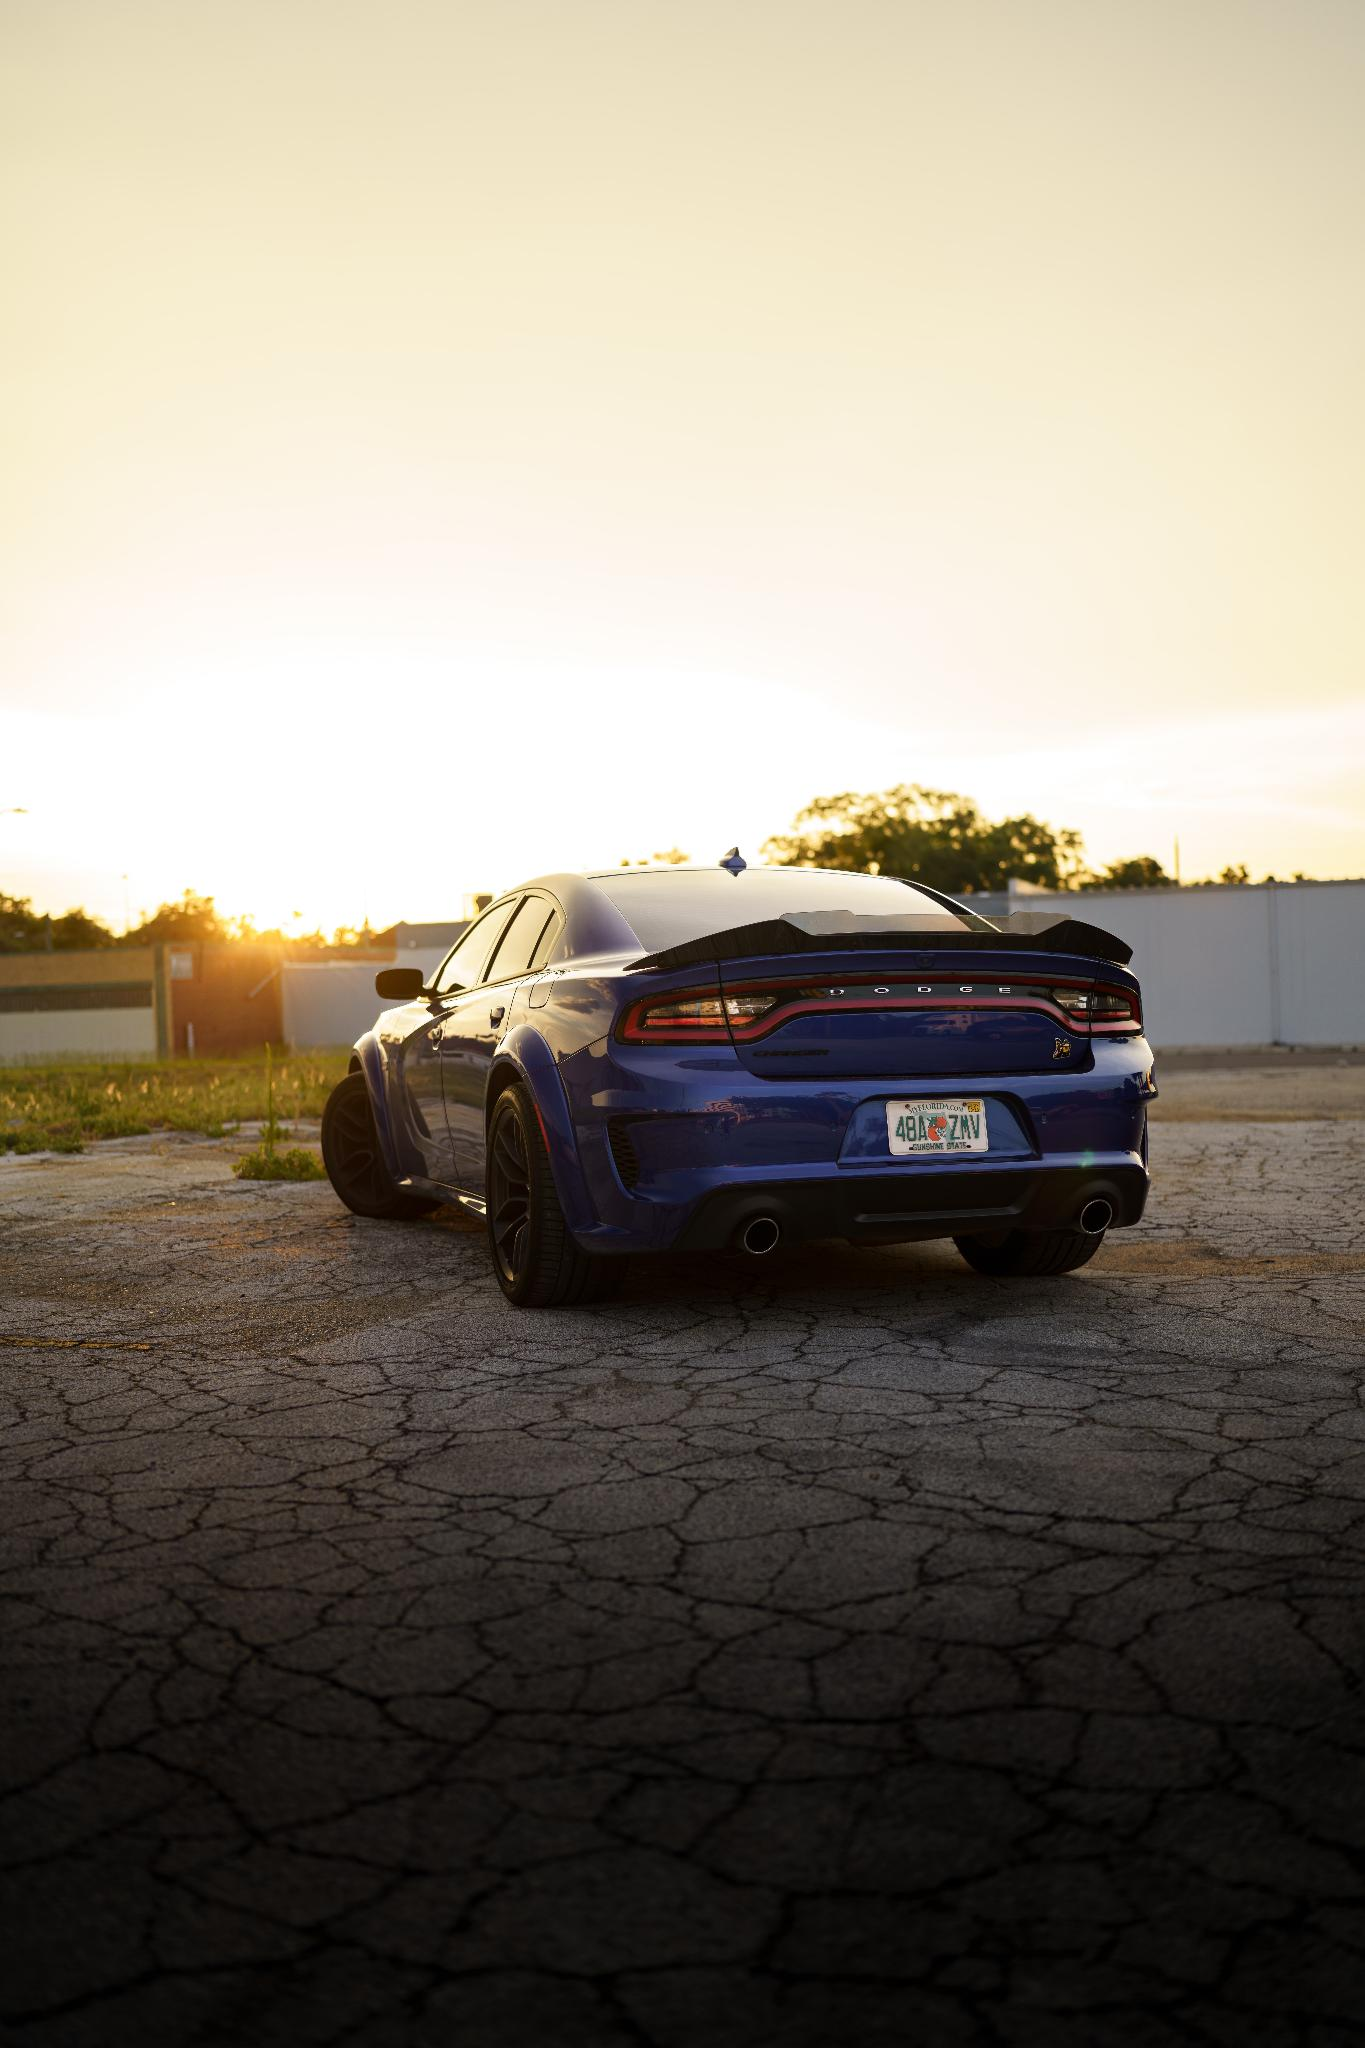dodge: (818, 969, 1022, 1011)
